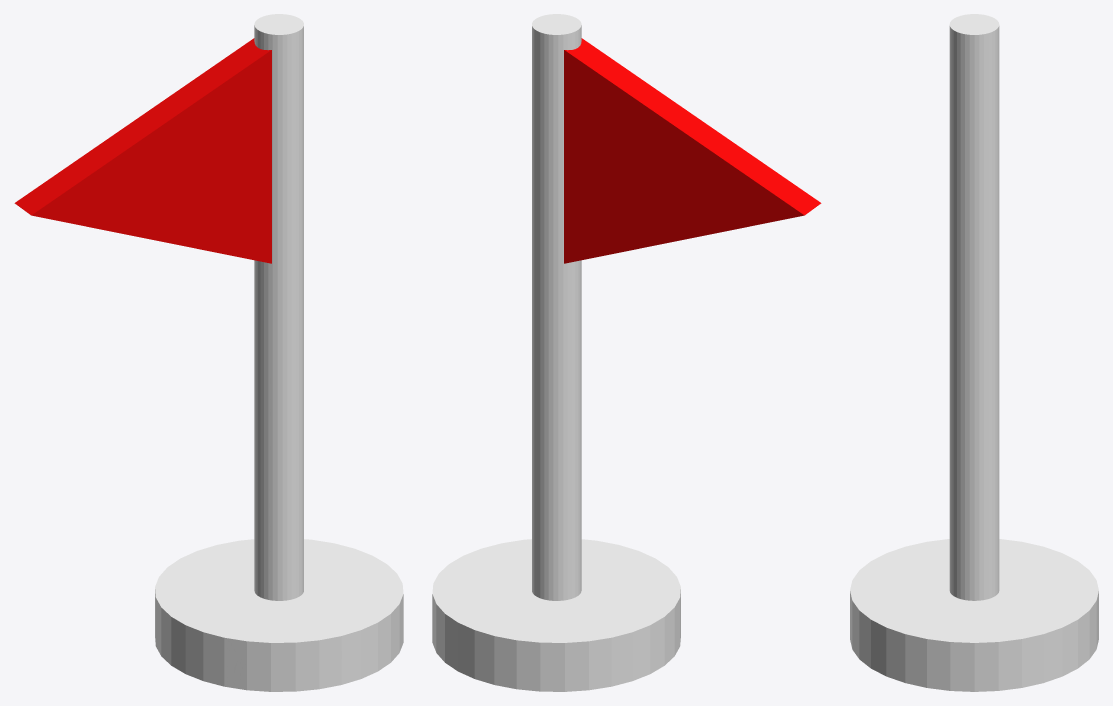
Rendered from Goal.obj.
3 views of the same model, side by side, from view 1: azimuth 30°, elevation 25°; view 2: azimuth 150°, elevation 25°; view 3: azimuth 270°, elevation 25° (orthographic).
Visible parts, largest first — view 1: 円柱; view 2: 円柱; view 3: 円柱.
Boxes of the visible parts, box(x1,y1,x2,y2) form: 円柱: box(14, 14, 403, 691); 円柱: box(432, 14, 821, 691); 円柱: box(850, 14, 1098, 691).
Bounding box in the file's own units: 3.38 × 5.45 × 2.
